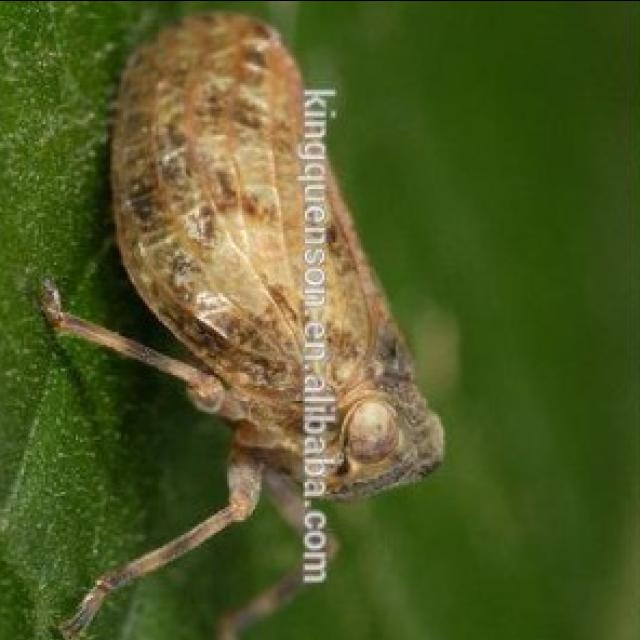brown plant hopper: (45, 11, 445, 640)
